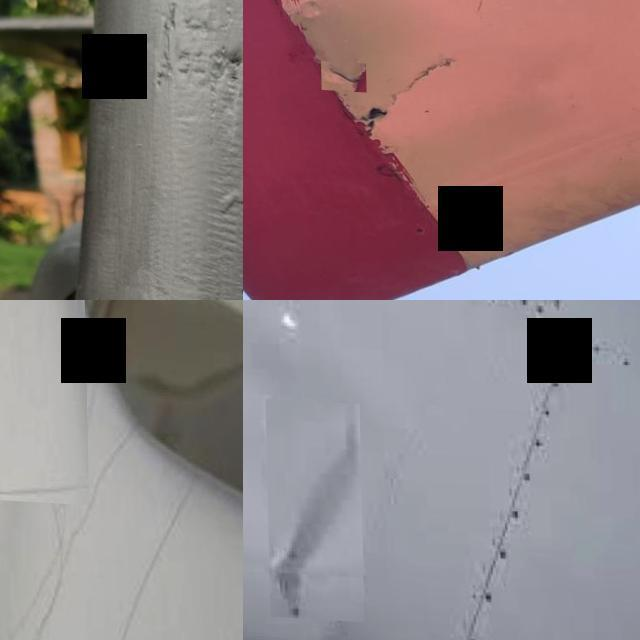Crack: (33, 411, 142, 640), (111, 466, 200, 640), (345, 41, 464, 143), (320, 59, 366, 90)
Dent: (269, 401, 360, 615)
